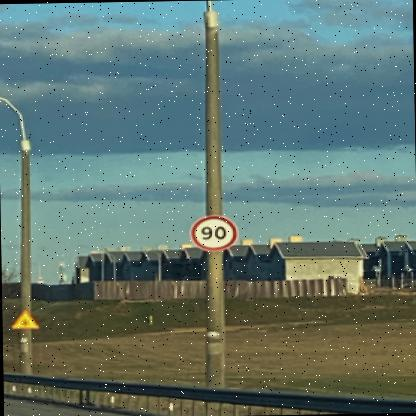speedlimit: (188, 214, 235, 250)
